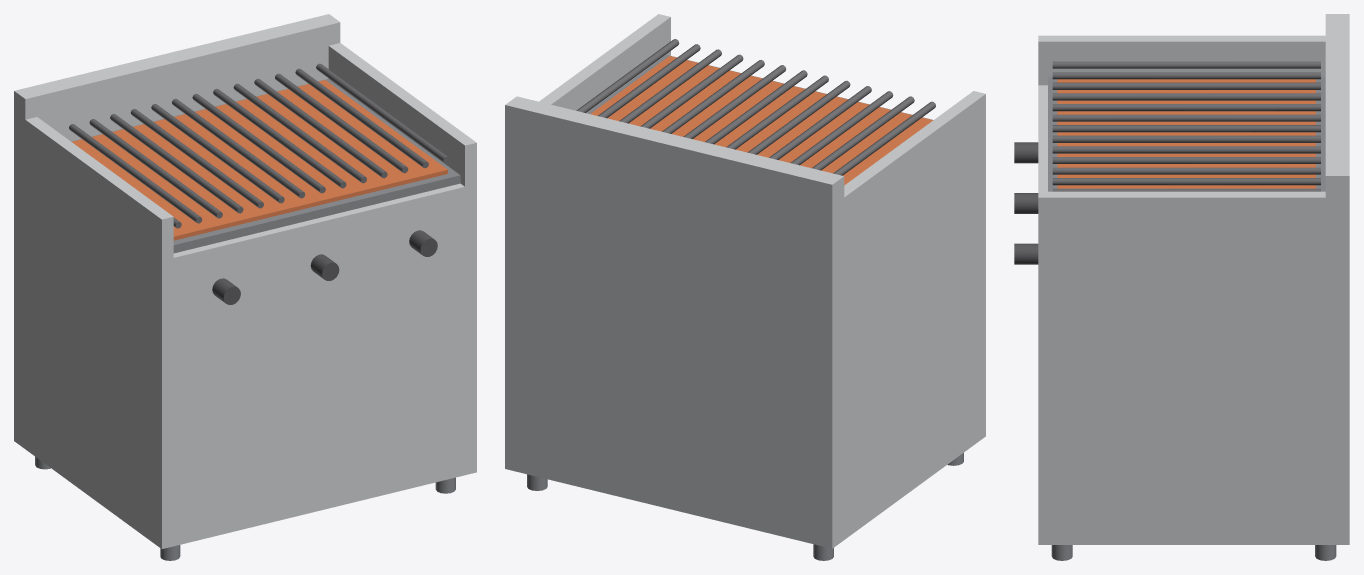
Rendered from grill-01.glb.
3 views of the same model, side by side, from view 1: azimuth 30°, elevation 25°; view 2: azimuth 150°, elevation 25°; view 3: azimuth 270°, elevation 25° (orthographic). The views are drawn at different scales.
Visible parts, largest first — view 1: cabinet, side-walls, embers, grate-bars, firebox, knobs, feet; view 2: cabinet, side-walls, grate-bars, embers, feet; view 3: cabinet, side-walls, grate-bars, embers, knobs, firebox, feet.
Boxes of the visible parts, bbox=[...] form: cabinet: bbox=[14, 153, 476, 548]; side-walls: bbox=[14, 14, 476, 260]; embers: bbox=[72, 80, 447, 240]; grate-bars: bbox=[69, 63, 449, 228]; firebox: bbox=[71, 79, 460, 253]; knobs: bbox=[212, 230, 437, 304]; feet: bbox=[35, 456, 455, 560]; cabinet: bbox=[505, 137, 985, 548]; side-walls: bbox=[505, 14, 985, 248]; grate-bars: bbox=[576, 39, 935, 175]; embers: bbox=[590, 56, 932, 185]; feet: bbox=[527, 453, 963, 560]; cabinet: bbox=[1038, 85, 1349, 544]; side-walls: bbox=[1038, 14, 1349, 240]; grate-bars: bbox=[1052, 61, 1320, 191]; embers: bbox=[1057, 79, 1315, 188]; knobs: bbox=[1014, 142, 1038, 264]; firebox: bbox=[1048, 76, 1325, 191]; feet: bbox=[1051, 545, 1336, 560].
Size of the model in its own units: 0.8 by 0.9 by 0.7.
